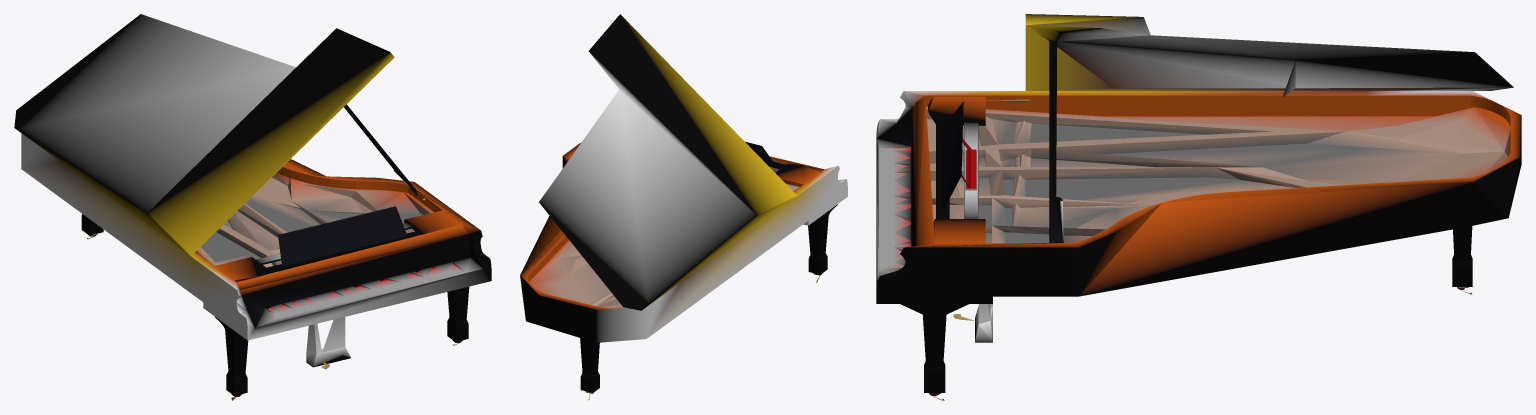
The model's file is grand-piano.lod0.glb.
The picture shows the model from 3 angles, left to right: view 1: azimuth 30°, elevation 25°; view 2: azimuth 150°, elevation 25°; view 3: azimuth 270°, elevation 25°; orthographic projection. The views are drawn at different scales.
Parts seen in each view (by area): view 1: Object_3; view 2: Object_3; view 3: Object_3.
Boxes of the visible parts, left/top/right/bottom form: Object_3: left=14, top=14, right=491, bottom=400; Object_3: left=520, top=14, right=847, bottom=400; Object_3: left=876, top=14, right=1521, bottom=400.
Bounding box in the file's own units: 1.26 × 1.37 × 2.17.
